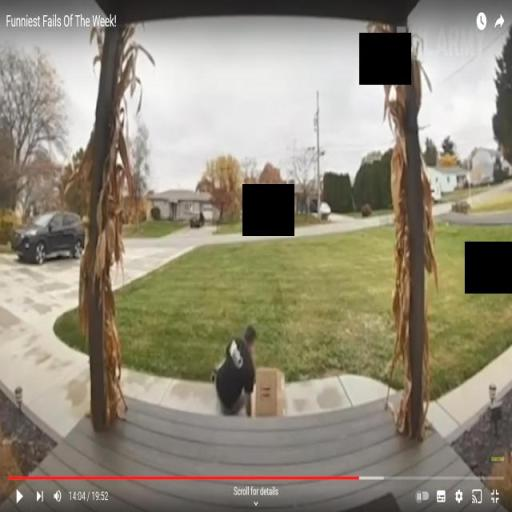Fall: (212, 321, 259, 421)
